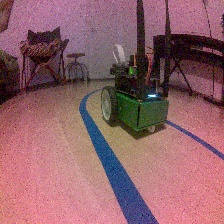rob: (99, 43, 169, 133)
